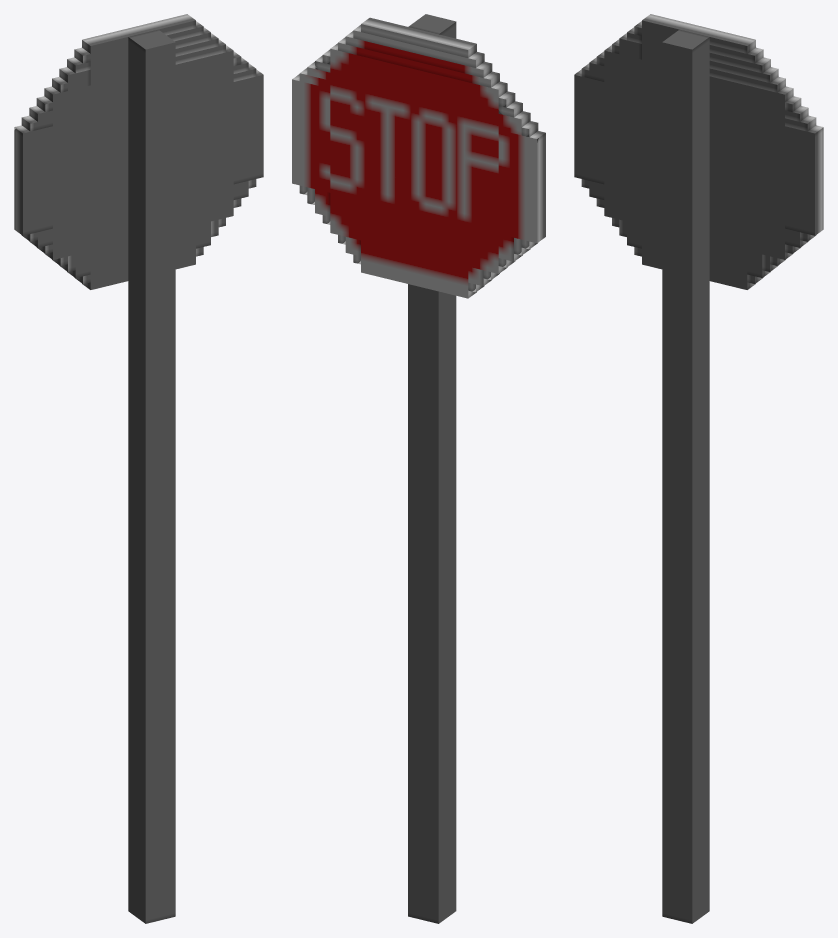
The picture shows the model from 3 angles, left to right: view 1: azimuth 30°, elevation 25°; view 2: azimuth 150°, elevation 25°; view 3: azimuth 330°, elevation 25°; orthographic projection.
Visible parts, largest first — view 1: Content; view 2: Content; view 3: Content.
Boxes of the visible parts, bbox=[...] form: Content: bbox=[14, 14, 263, 923]; Content: bbox=[292, 14, 545, 923]; Content: bbox=[574, 14, 823, 923].
Bounding box in the file's own units: 32 × 111 × 6.
1 material, 1 textured.
